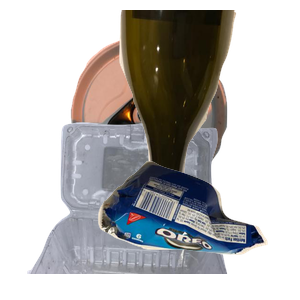glass: (117, 10, 300, 190)
metal: (68, 31, 288, 211)
plastic: (25, 120, 245, 300)
trash: (95, 158, 300, 300)
